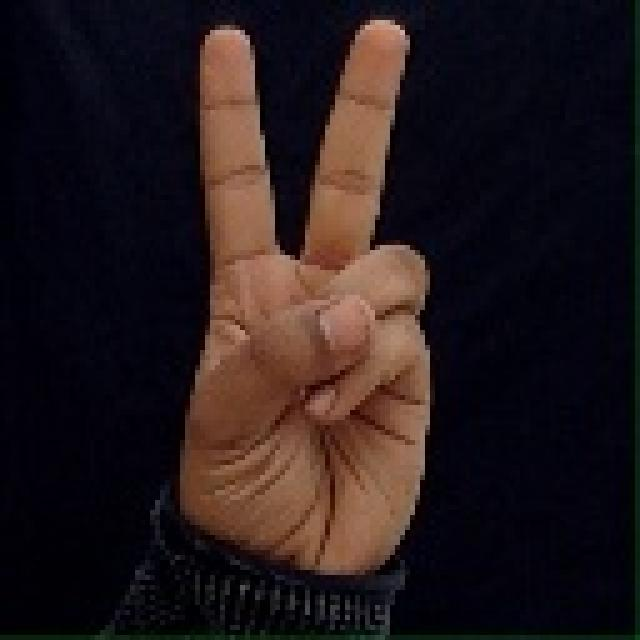Two: (114, 0, 488, 582)
